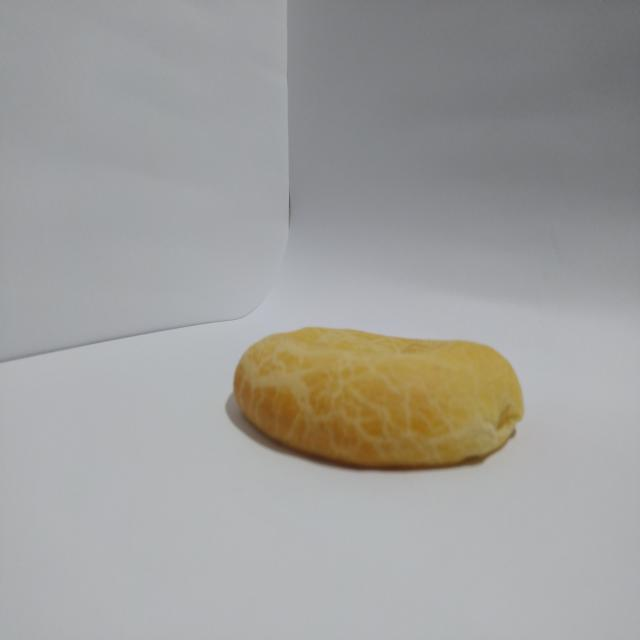Food: (227, 308, 530, 487)
